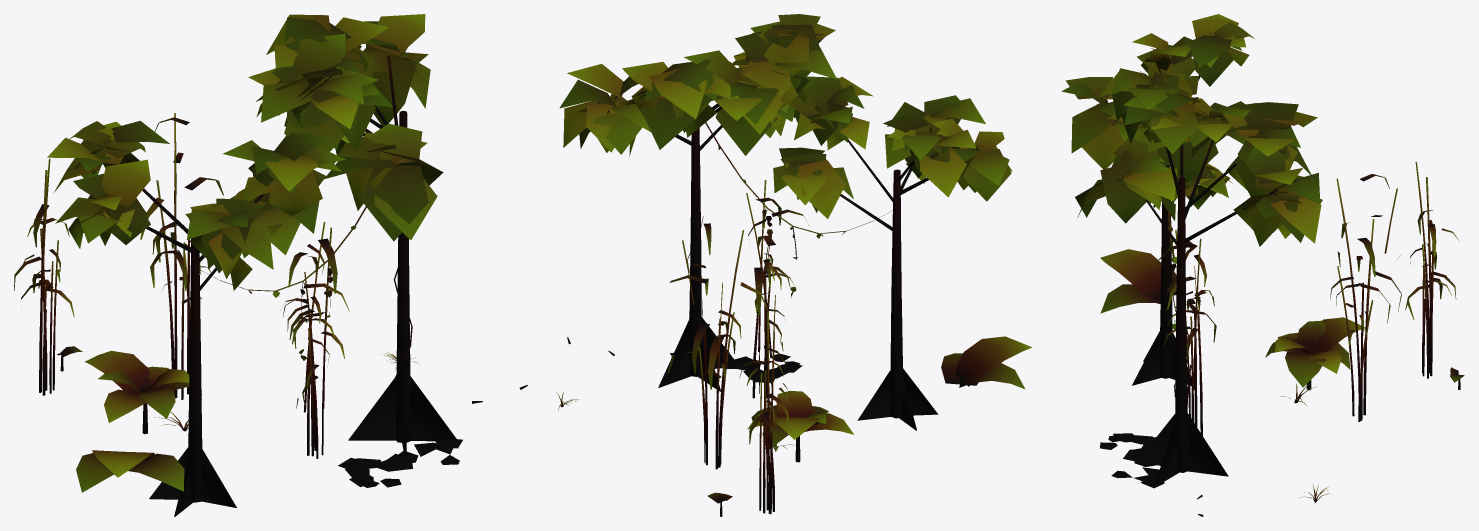
Rendered from patch_mixed_far.glb.
3 views of the same model, side by side, from view 1: azimuth 30°, elevation 25°; view 2: azimuth 150°, elevation 25°; view 3: azimuth 270°, elevation 25° (orthographic). The views are drawn at different scales.
Parts seen in each view (by area): view 1: patch_mixed_far; view 2: patch_mixed_far; view 3: patch_mixed_far.
Boxes of the visible parts, box(x1,y1,x2,y2) form: patch_mixed_far: box(14, 14, 527, 516); patch_mixed_far: box(556, 14, 1032, 516); patch_mixed_far: box(1061, 14, 1464, 516).
Size of the model in its own units: 13.54 by 10.83 by 11.12.
1 material, 1 textured.
